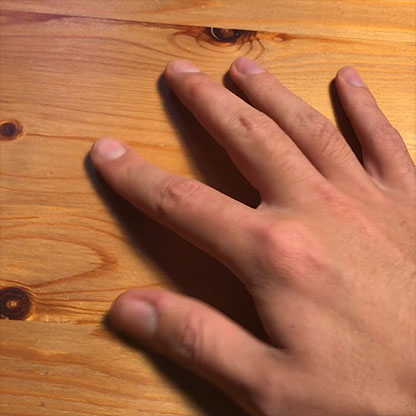fingertip: (111, 290, 167, 350), (81, 128, 135, 170), (331, 58, 376, 105), (222, 51, 280, 86), (165, 49, 209, 88)
